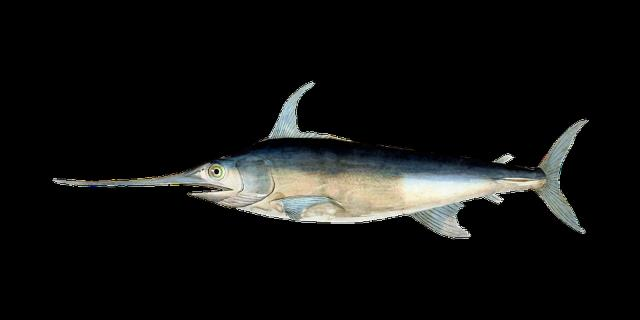Mulut: (42, 142, 256, 226)
Sirip Anal: (476, 148, 520, 212)
Sirip Dada: (269, 186, 343, 232)
Sirip Ekor: (531, 111, 601, 241)
Sirip Perut: (402, 196, 474, 248)
Sirip Punggung: (264, 78, 340, 148)
